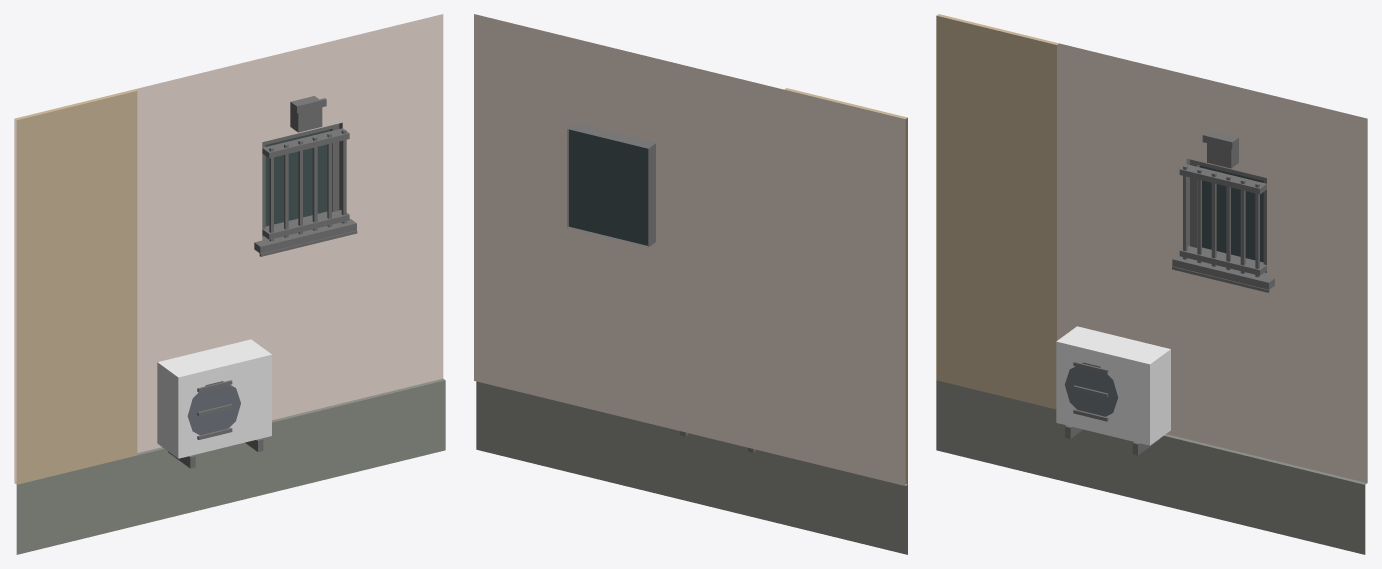
The model's file is base-w4_close.fbx.
3 views of the same model, side by side, from view 1: azimuth 30°, elevation 25°; view 2: azimuth 150°, elevation 25°; view 3: azimuth 330°, elevation 25° (orthographic).
Parts seen in each view (by area): view 1: a2001/200/base-w4_close; view 2: a2001/200/base-w4_close; view 3: a2001/200/base-w4_close.
Part boxes in pixels (x1,y1,x2,y2): a2001/200/base-w4_close: (14,14,445,554); a2001/200/base-w4_close: (474,14,907,554); a2001/200/base-w4_close: (936,14,1367,554).
Size of the model in its own units: 3.2 by 3.1 by 0.42.
